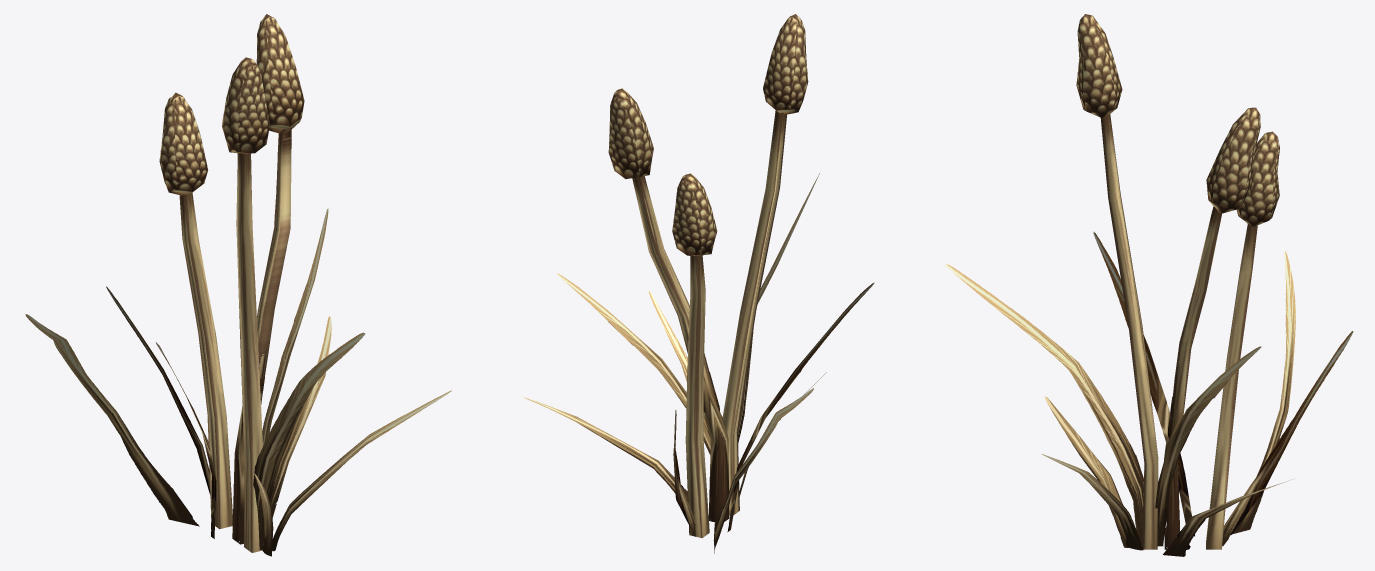
Rendered from Grass1.fbx.
3 views of the same model, side by side, from view 1: azimuth 30°, elevation 25°; view 2: azimuth 150°, elevation 25°; view 3: azimuth 270°, elevation 25° (orthographic). The views are drawn at different scales.
Visible parts, largest first — view 1: Cube.001; view 2: Cube.001; view 3: Cube.001.
Boxes of the visible parts, box(x1,y1,x2,y2) form: Cube.001: box(25, 14, 451, 556); Cube.001: box(523, 14, 874, 553); Cube.001: box(945, 14, 1353, 556).
Bounding box in the file's own units: 0.4904 × 0.7371 × 0.575.
